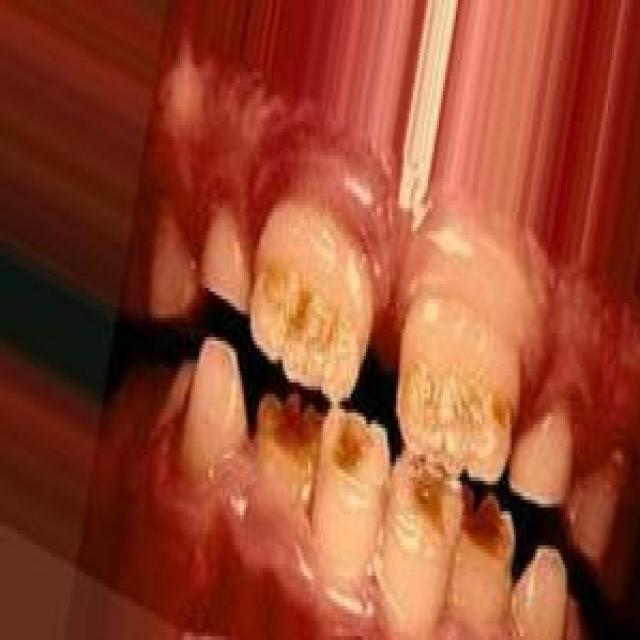caries: (389, 341, 515, 489), (247, 256, 363, 406), (323, 396, 391, 505), (258, 380, 324, 484), (393, 453, 459, 544), (458, 481, 518, 569)
